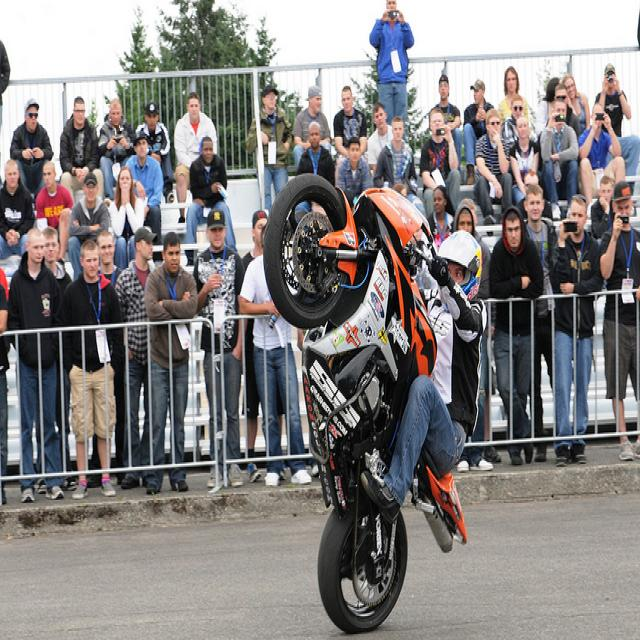motor: (261, 161, 481, 628)
